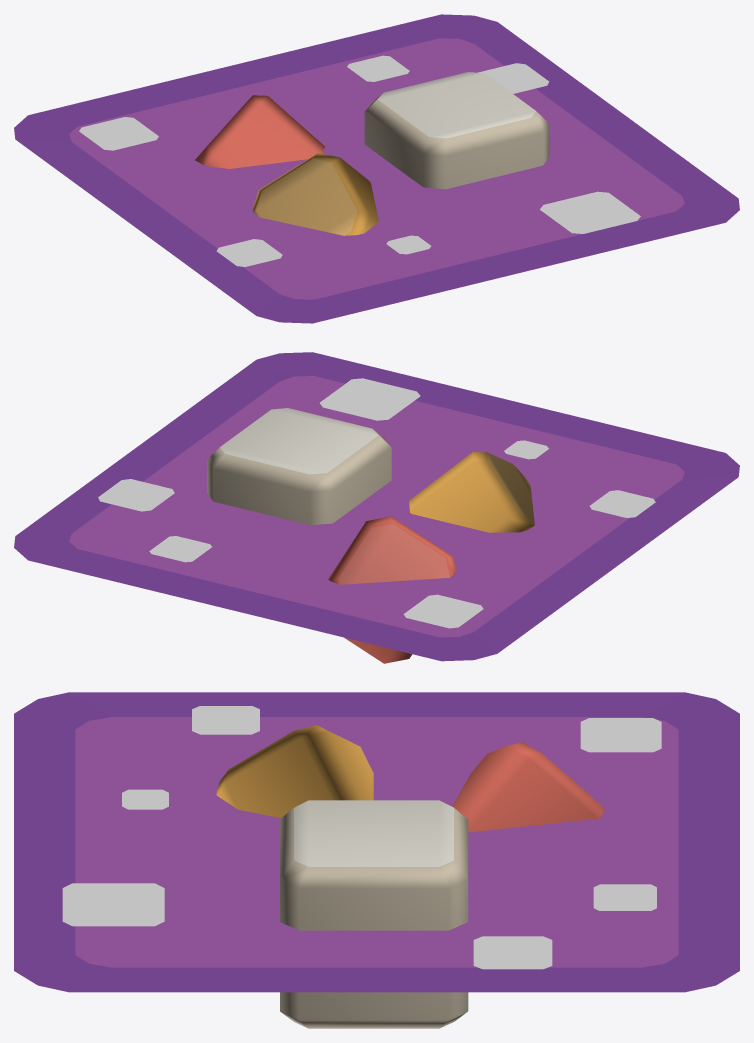
File: BC_cookrecipe_S_08.fbx
The picture shows the model from 3 angles, top to bottom: view 1: azimuth 30°, elevation 25°; view 2: azimuth 150°, elevation 25°; view 3: azimuth 270°, elevation 25°; orthographic projection. The views are drawn at different scales.
Parts seen in each view (by area): view 1: base, cube1, cube2, cube3, boko2, boko4, boko1, boko8, boko9, boko7; view 2: base, cube1, cube2, cube3, boko2, boko4, boko1, boko8, boko9, boko7; view 3: base, cube1, cube2, cube3, boko2, boko4, boko1, boko8, boko9, boko7.
Part boxes in pixels (x1=…): base: x1=14, y1=14, x2=739, y2=323; cube1: x1=364, y1=72, x2=549, y2=189; cube2: x1=253, y1=152, x2=378, y2=235; cube3: x1=195, y1=95, x2=324, y2=168; boko2: x1=540, y1=191, x2=640, y2=233; boko4: x1=79, y1=117, x2=158, y2=150; boko1: x1=478, y1=63, x2=549, y2=93; boko8: x1=216, y1=239, x2=282, y2=266; boko9: x1=347, y1=55, x2=409, y2=81; boko7: x1=386, y1=235, x2=431, y2=254; base: x1=14, y1=352, x2=739, y2=661; cube1: x1=207, y1=408, x2=391, y2=525; cube2: x1=409, y1=452, x2=534, y2=532; cube3: x1=328, y1=516, x2=456, y2=663; boko2: x1=320, y1=378, x2=420, y2=420; boko4: x1=403, y1=594, x2=483, y2=628; boko1: x1=98, y1=479, x2=174, y2=511; boko8: x1=589, y1=490, x2=655, y2=517; boko9: x1=149, y1=536, x2=211, y2=562; boko7: x1=504, y1=440, x2=548, y2=459; base: x1=14, y1=692, x2=739, y2=992; cube1: x1=280, y1=800, x2=468, y2=1028; cube2: x1=216, y1=725, x2=373, y2=817; cube3: x1=452, y1=742, x2=604, y2=832; boko2: x1=62, y1=883, x2=164, y2=926; boko4: x1=580, y1=718, x2=661, y2=752; boko1: x1=473, y1=936, x2=552, y2=969; boko8: x1=192, y1=706, x2=259, y2=734; boko9: x1=593, y1=884, x2=656, y2=910; boko7: x1=122, y1=789, x2=168, y2=809.
Size of the model in its own units: 3.5 by 1.03 by 3.58.
